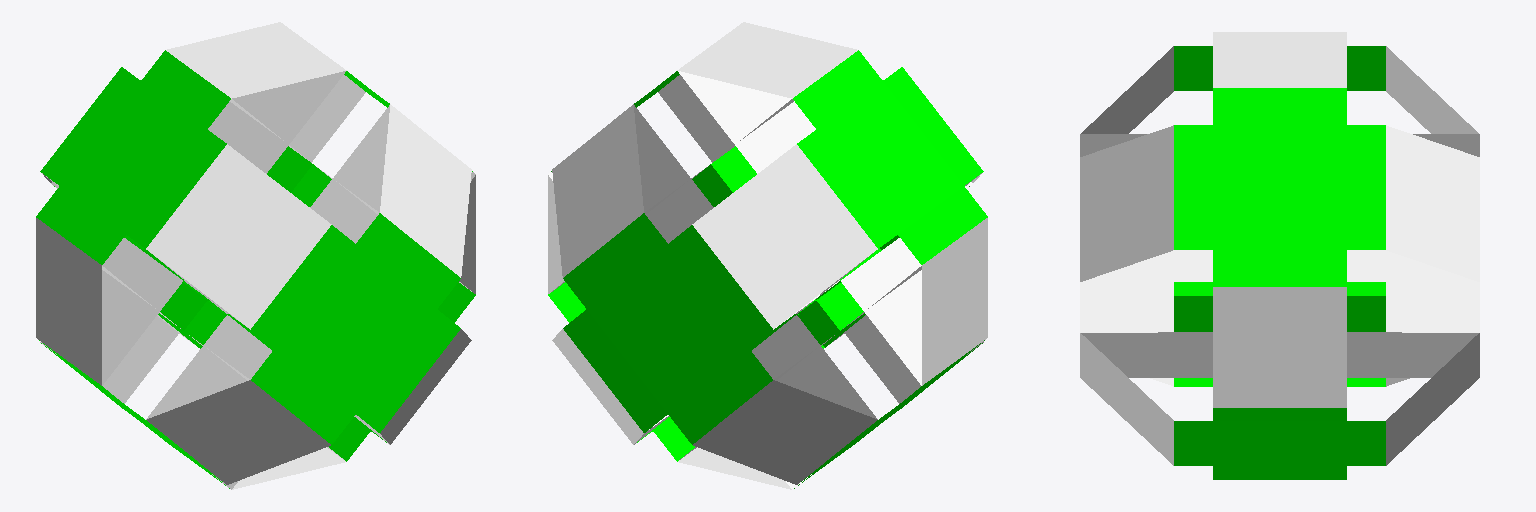
Rendered from datoms.obj.
3 renders of one model, left to right at view 1: azimuth 30°, elevation 25°; view 2: azimuth 150°, elevation 25°; view 3: azimuth 270°, elevation 25°, orthographic.
Visible parts, largest first — view 1: Datom, Datom_2, Datom_5, Datom_6, Datom_3, Datom_1; view 2: Datom, Datom_2, Datom_6, Datom_5, Datom_3, Datom_1; view 3: Datom, Datom_4, Datom_3, Datom_1, Datom_5, Datom_6, Datom_2.
Boxes of the visible parts, x1=… form: Datom: x1=36, y1=22, x2=475, y2=489; Datom_2: x1=51, y1=71, x2=345, y2=385; Datom_5: x1=146, y1=105, x2=389, y2=444; Datom_6: x1=40, y1=75, x2=365, y2=403; Datom_3: x1=102, y1=266, x2=343, y2=459; Datom_1: x1=230, y1=99, x2=471, y2=291; Datom: x1=548, y1=22, x2=987, y2=489; Datom_2: x1=637, y1=71, x2=972, y2=442; Datom_6: x1=634, y1=105, x2=877, y2=444; Datom_5: x1=658, y1=75, x2=983, y2=403; Datom_3: x1=680, y1=266, x2=921, y2=459; Datom_1: x1=552, y1=99, x2=793, y2=291; Datom: x1=1080, y1=32, x2=1479, y2=479; Datom_4: x1=1081, y1=332, x2=1478, y2=377; Datom_3: x1=1080, y1=282, x2=1479, y2=332; Datom_1: x1=1083, y1=250, x2=1476, y2=281; Datom_5: x1=1174, y1=282, x2=1212, y2=331; Datom_6: x1=1347, y1=282, x2=1385, y2=331; Datom_2: x1=1080, y1=134, x2=1479, y2=413.
Bounding box in the file's own units: 10 × 10 × 9.25.